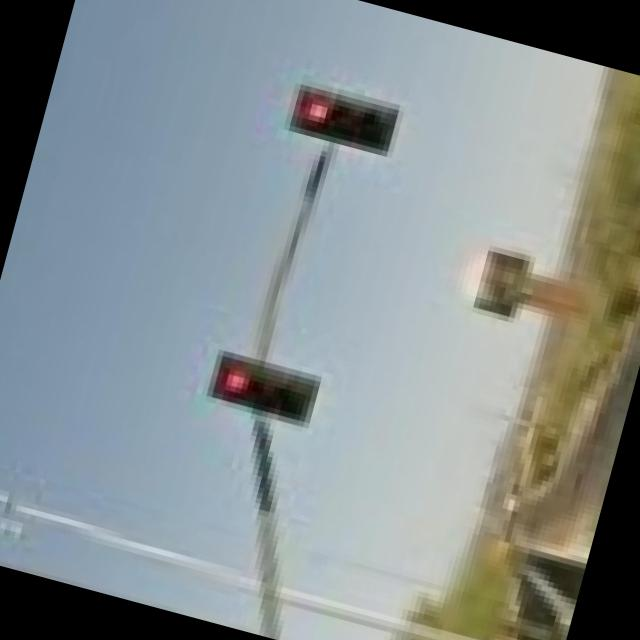red-lights: (281, 71, 349, 152), (194, 344, 268, 416)
